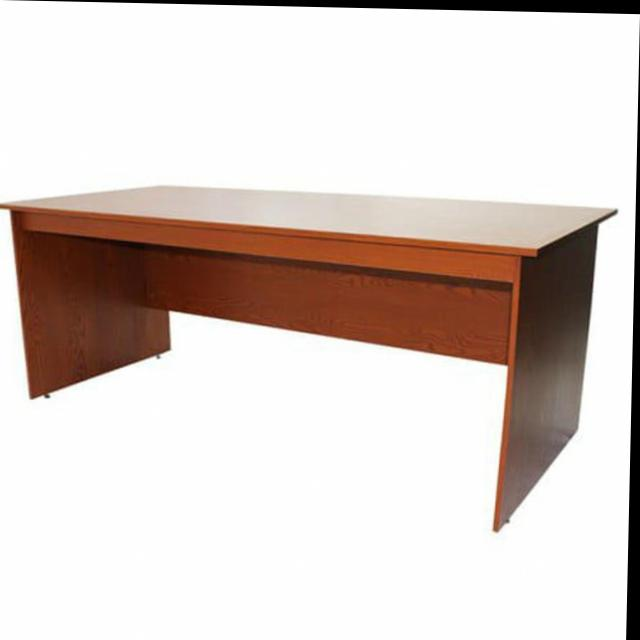Table: (0, 147, 626, 546)
